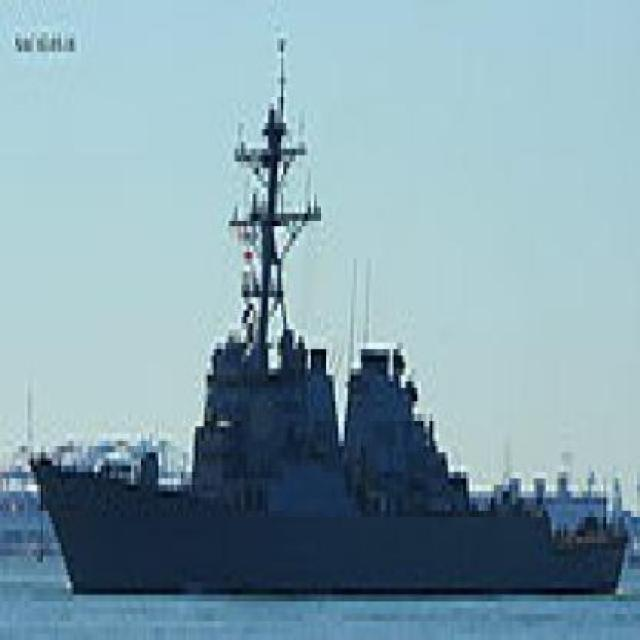warship2: (26, 46, 638, 622)
